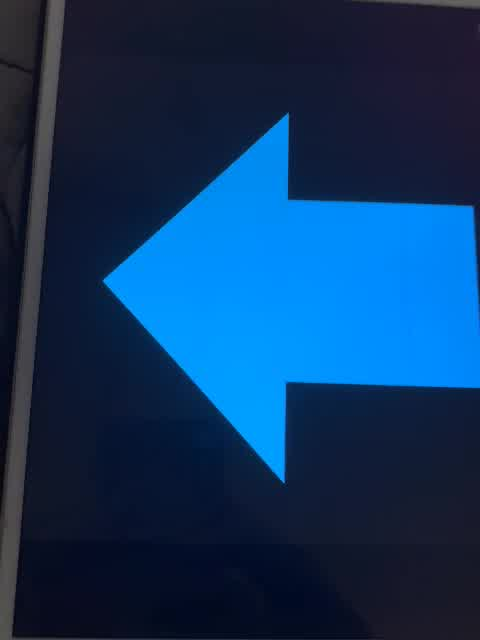left: (99, 95, 480, 517)
